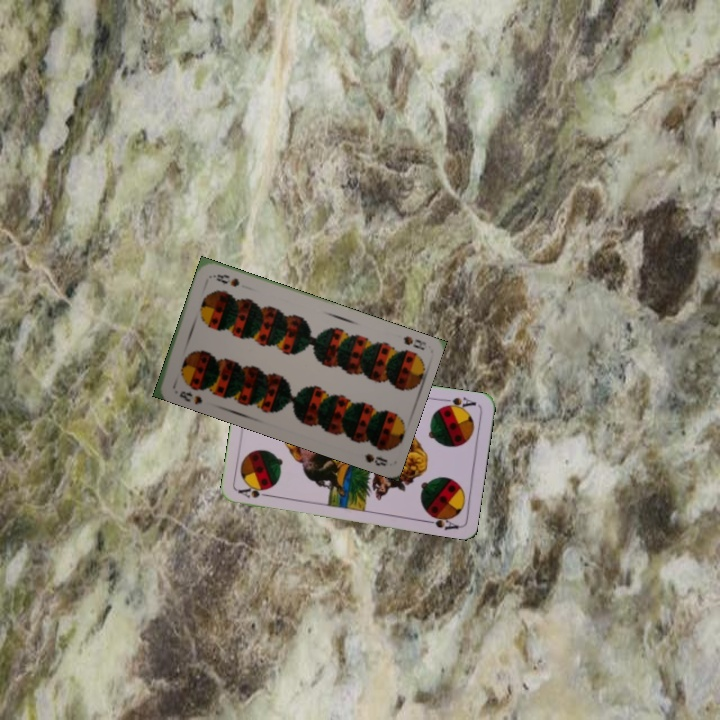S8: (399, 332, 429, 353), (175, 387, 205, 407)
SA: (438, 393, 478, 413), (235, 483, 275, 501)
